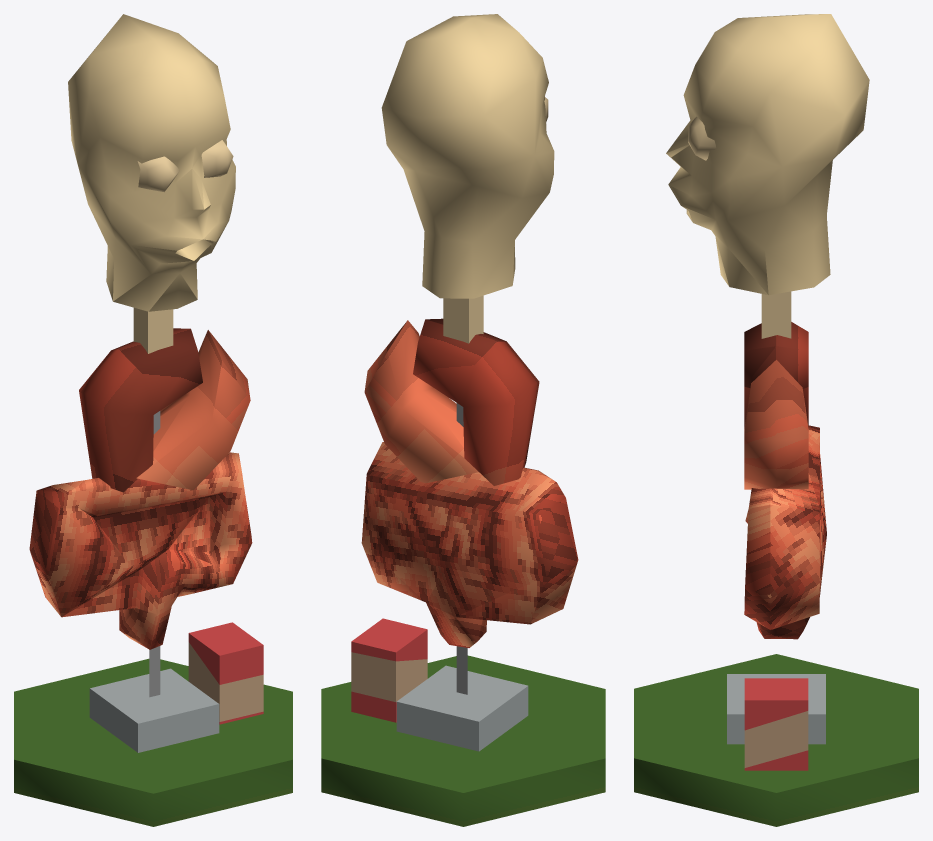
Rendered from anatomyDiagrama.fbx.
3 renders of one model, left to right at view 1: azimuth 30°, elevation 25°; view 2: azimuth 150°, elevation 25°; view 3: azimuth 270°, elevation 25°, orthographic. The views are drawn at different scales.
Visible parts, largest first — view 1: science_projectShape, science_projectShape2; view 2: science_projectShape, science_projectShape2; view 3: science_projectShape, science_projectShape2.
Boxes of the visible parts, <box> form: science_projectShape: <box>14,14,292,826</box>; science_projectShape2: <box>29,328,252,649</box>; science_projectShape: <box>321,14,605,826</box>; science_projectShape2: <box>361,318,578,647</box>; science_projectShape: <box>634,14,918,826</box>; science_projectShape2: <box>744,322,826,639</box>.
Bounding box in the file's own units: 662 × 1646 × 573.
